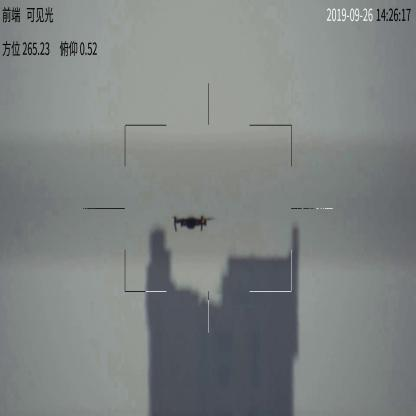uav: (165, 211, 213, 233)
